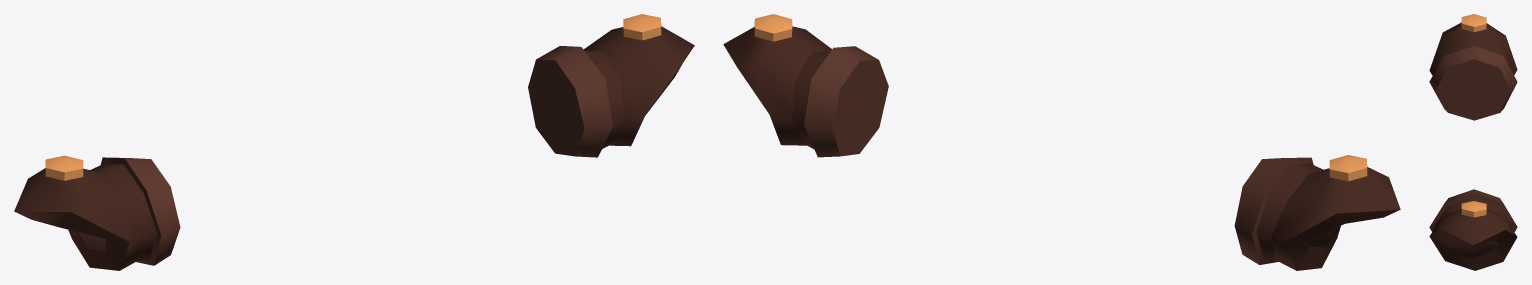
File: Glove_27.fbx
3 renders of one model, left to right at view 1: azimuth 30°, elevation 25°; view 2: azimuth 150°, elevation 25°; view 3: azimuth 270°, elevation 25°, orthographic. The views are drawn at different scales.
Visible parts, largest first — view 1: Glove_27; view 2: Glove_27; view 3: Glove_27.
Part boxes in pixels (x1,y1,x2,y2): Glove_27: [14, 14, 694, 270]; Glove_27: [723, 14, 1400, 270]; Glove_27: [1429, 14, 1517, 270].
Bounding box in the file's own units: 128 × 21.56 × 21.83.
